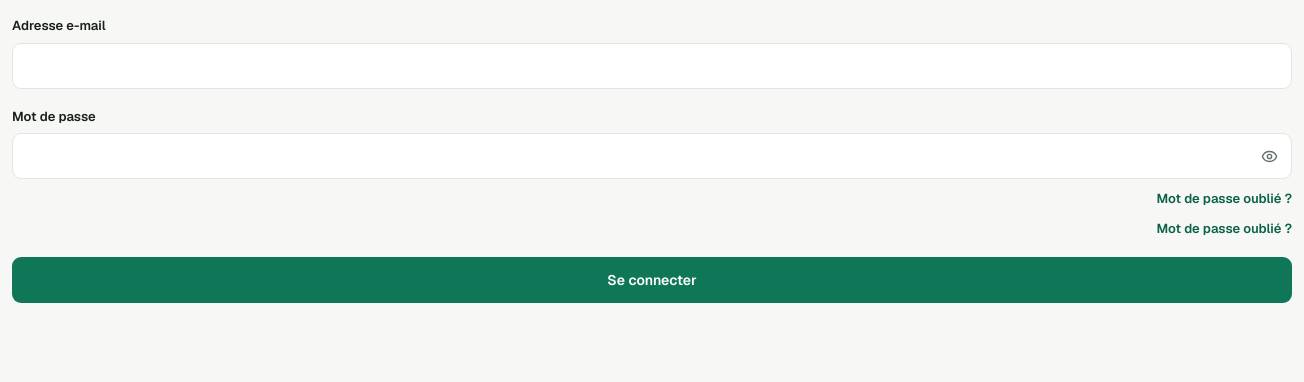
Test: authentication forms › shows a clear French message on login failure
The image size is (1304, 382).
Type "jeanne@example.com" into the field labelled "Adresse e-mail" at (652, 66), box [12,42,1292,88]
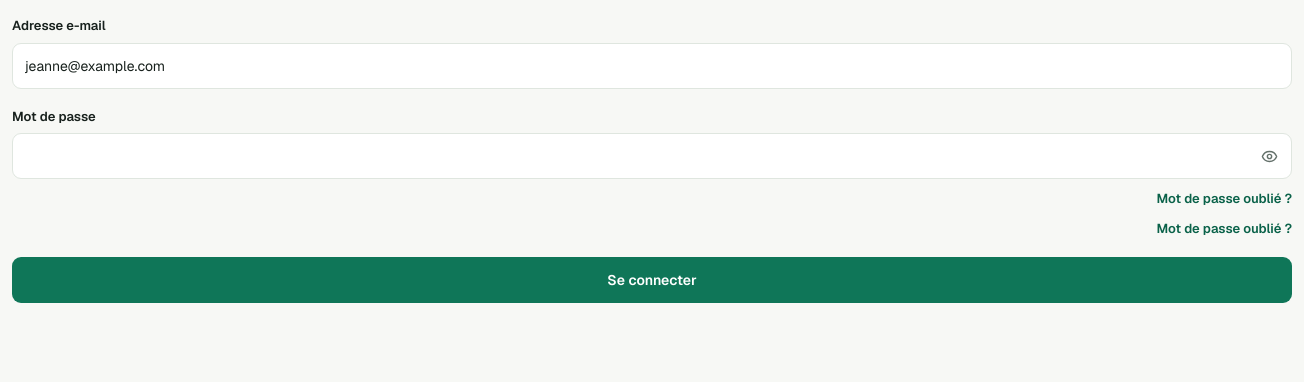
Type "incorrect" into the password field labelled "Mot de passe" at (652, 156), box [12,133,1292,179]
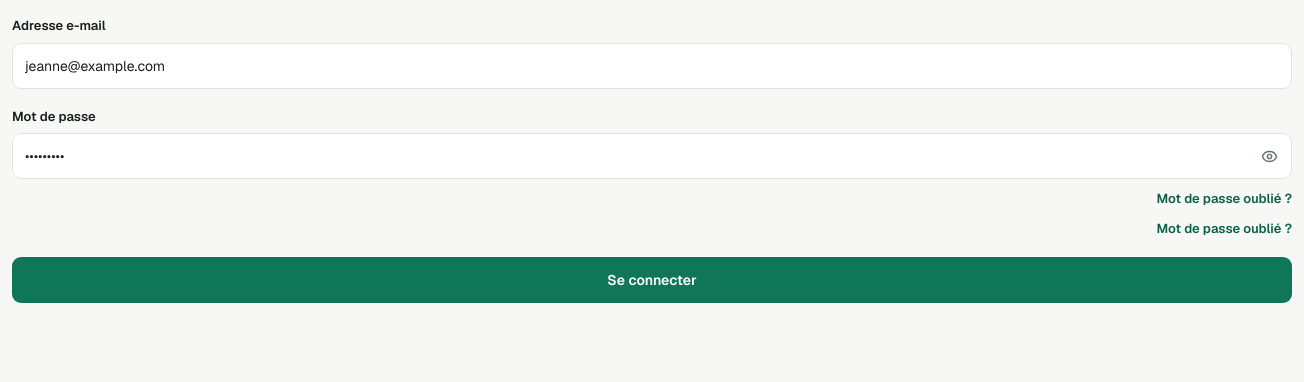
Submit the form named "Se connecter"
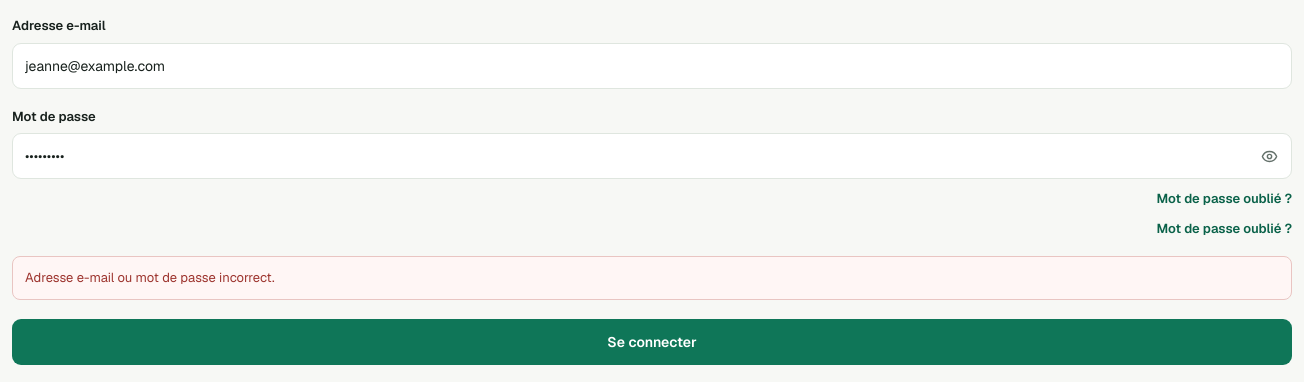
Now the message reads "Adresse e-mail ou mot de passe incorrect.", box [25,269,275,286]
